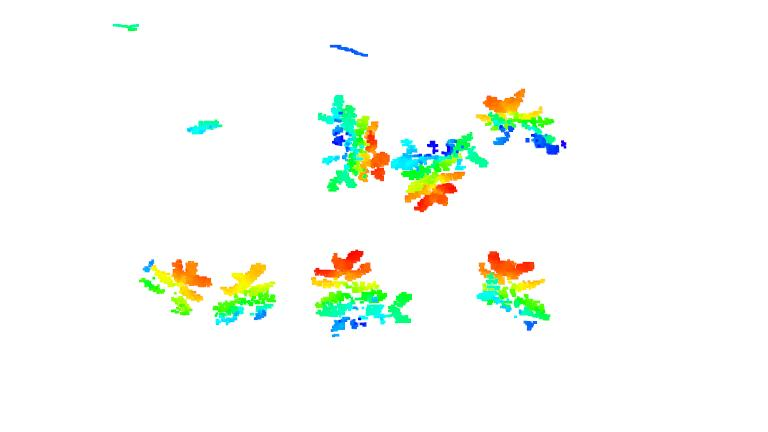chickpea: (311, 247, 413, 339), (315, 93, 390, 194), (392, 134, 487, 213), (474, 86, 568, 157), (478, 250, 551, 331), (137, 257, 215, 321), (211, 262, 278, 327)
